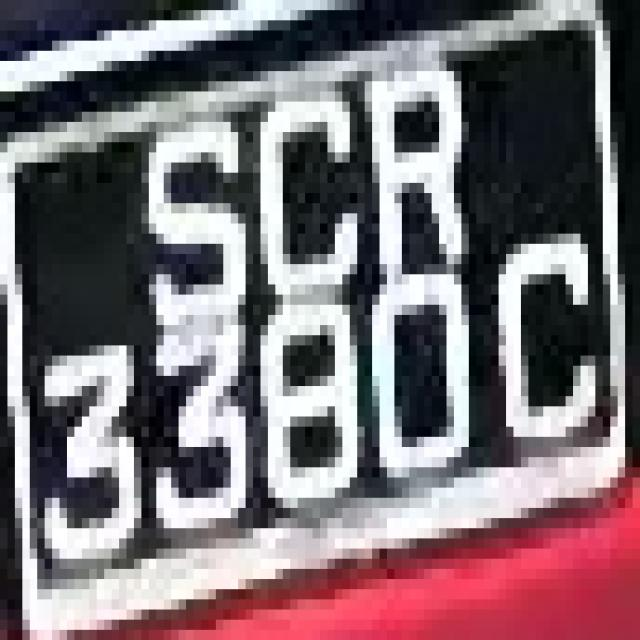0: (372, 234, 484, 508)
3: (30, 315, 149, 620), (134, 274, 260, 559)
8: (253, 284, 372, 508)
C: (506, 203, 610, 478), (253, 61, 357, 335)
R: (357, 41, 491, 315)
S: (119, 102, 231, 325)
